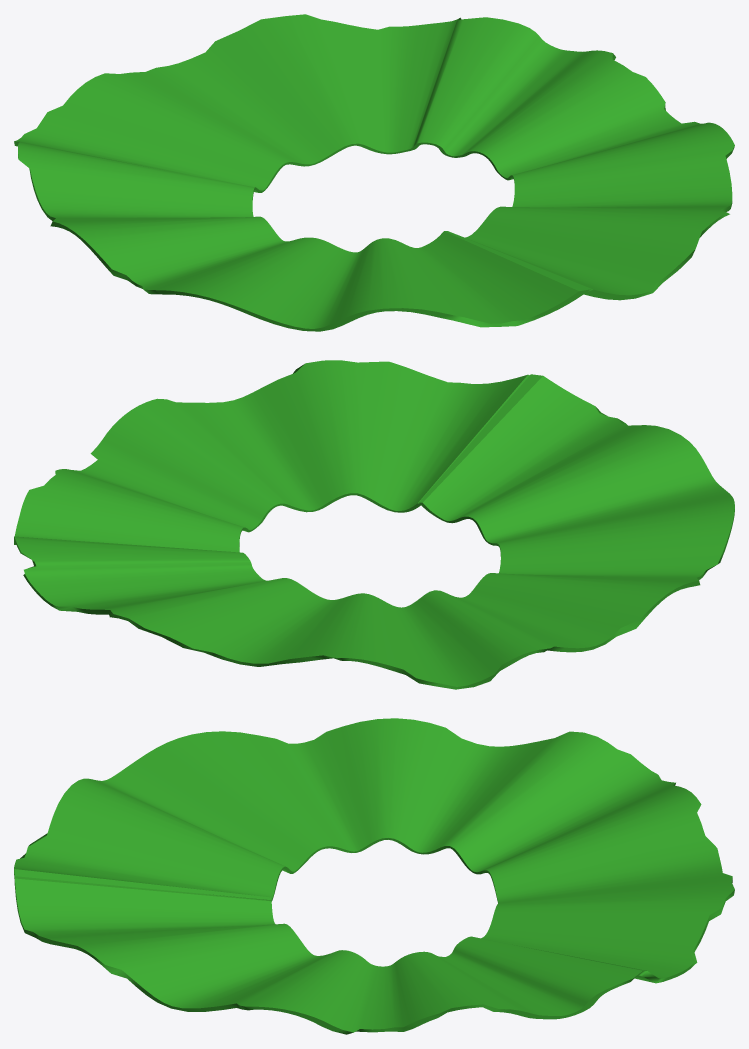
File: Salada 1.fbx
3 views of the same model, one above another, from view 1: azimuth 30°, elevation 25°; view 2: azimuth 150°, elevation 25°; view 3: azimuth 270°, elevation 25° (orthographic).
Parts seen in each view (by area): view 1: Vegetable; view 2: Vegetable; view 3: Vegetable.
Part boxes in pixels (x1,y1,x2,y2): Vegetable: (14,14,734,331); Vegetable: (14,360,734,689); Vegetable: (14,718,734,1034).
Bounding box in the file's own units: 261 × 20.68 × 271.
